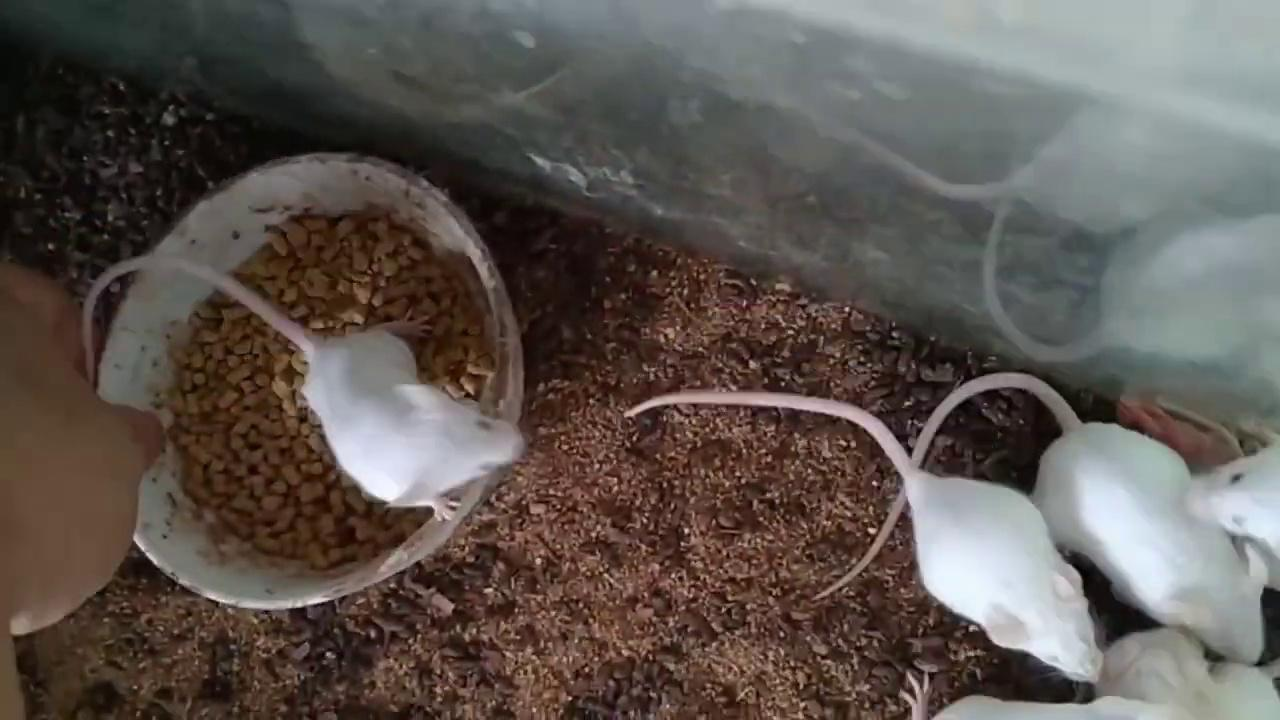rat: (625, 390, 1104, 685), (814, 371, 1268, 665), (80, 254, 525, 524), (1179, 441, 1280, 559)
